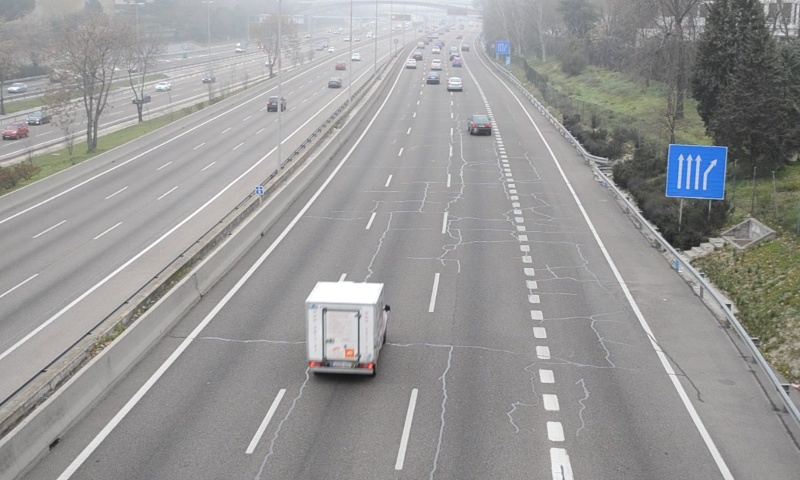car: (469, 113, 492, 136)
small-truck: (304, 282, 389, 376)
